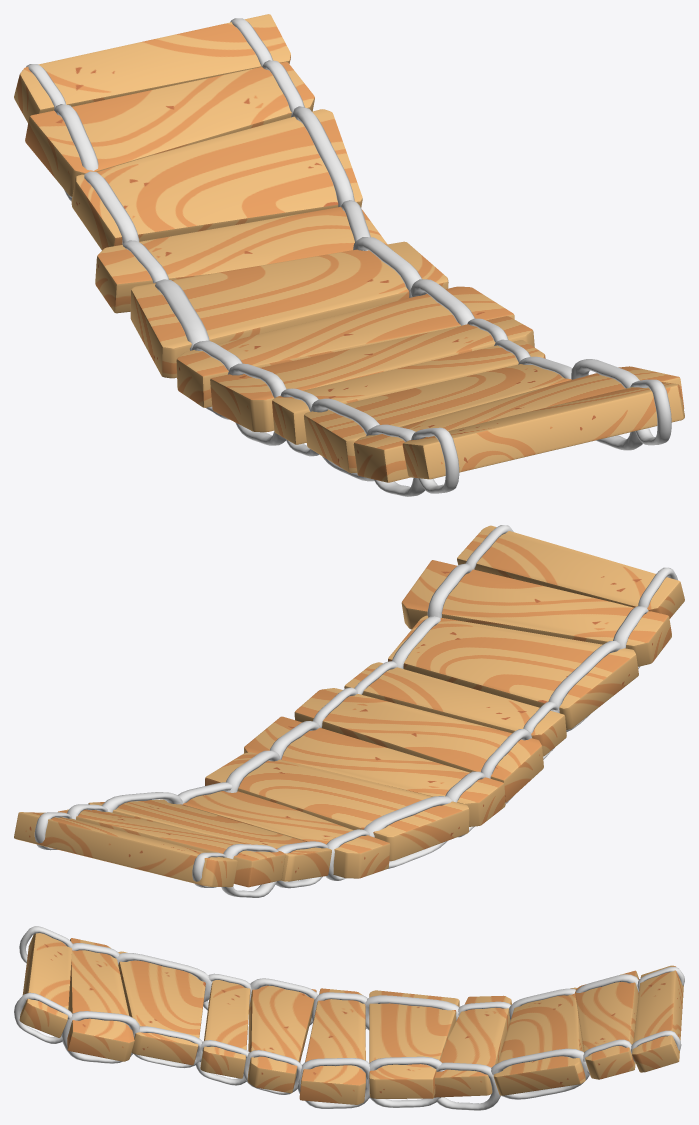
File: swingBridge_2.fbx
3 renders of one model, top to bottom at view 1: azimuth 30°, elevation 25°; view 2: azimuth 150°, elevation 25°; view 3: azimuth 270°, elevation 25°, orthographic. The views are drawn at different scales.
Visible parts, largest first — view 1: WoodBridge1, WoodBridge005, WoodBridge004, WoodBridge2, WoodBridge3, WoodBridge011, WoodBridge006, WoodBridge007, WoodBridge009, WoodBridge010, WoodBridge008, Ellipse008 (+14 smaller); view 2: WoodBridge009, WoodBridge010, WoodBridge005, WoodBridge007, WoodBridge006, WoodBridge011, WoodBridge2, WoodBridge008, WoodBridge3, WoodBridge1, WoodBridge004, Ellipse015 (+13 smaller); view 3: WoodBridge005, WoodBridge1, WoodBridge009, WoodBridge006, WoodBridge010, WoodBridge007, WoodBridge3, WoodBridge004, WoodBridge2, WoodBridge011, WoodBridge008, Ellipse008 (+21 smaller).
Part boxes in pixels (<box>): WoodBridge1: <box>71,109,362,250</box>; WoodBridge005: <box>130,241,448,378</box>; WoodBridge004: <box>25,62,314,196</box>; WoodBridge2: <box>14,14,290,123</box>; WoodBridge3: <box>95,207,387,313</box>; WoodBridge011: <box>402,382,684,479</box>; WoodBridge006: <box>176,286,514,407</box>; WoodBridge007: <box>210,316,534,432</box>; WoodBridge009: <box>304,364,571,473</box>; WoodBridge010: <box>353,366,684,482</box>; WoodBridge008: <box>272,340,545,444</box>; Ellipse008: <box>292,106,354,206</box>; WoodBridge009: <box>388,615,638,729</box>; WoodBridge010: <box>401,560,671,666</box>; WoodBridge005: <box>205,752,469,861</box>; WoodBridge007: <box>294,688,543,802</box>; WoodBridge006: <box>244,716,505,826</box>; WoodBridge011: <box>457,525,684,618</box>; WoodBridge2: <box>14,812,237,887</box>; WoodBridge008: <box>344,662,566,756</box>; WoodBridge3: <box>182,791,390,878</box>; WoodBridge1: <box>88,799,331,881</box>; WoodBridge004: <box>58,809,285,887</box>; Ellipse015: <box>363,796,453,868</box>; WoodBridge005: <box>369,990,459,1098</box>; WoodBridge1: <box>493,987,585,1095</box>; WoodBridge009: <box>118,951,205,1065</box>; WoodBridge006: <box>299,988,365,1104</box>; WoodBridge010: <box>67,938,134,1061</box>; WoodBridge007: <box>247,985,316,1093</box>; WoodBridge3: <box>434,995,511,1097</box>; WoodBridge004: <box>575,970,639,1079</box>; WoodBridge2: <box>632,965,683,1072</box>; WoodBridge011: <box>19,933,71,1037</box>; WoodBridge008: <box>200,980,250,1078</box>; Ellipse008: <box>491,1048,589,1099</box>.
Size of the model in its own units: 2.6 by 1.16 by 6.6.
